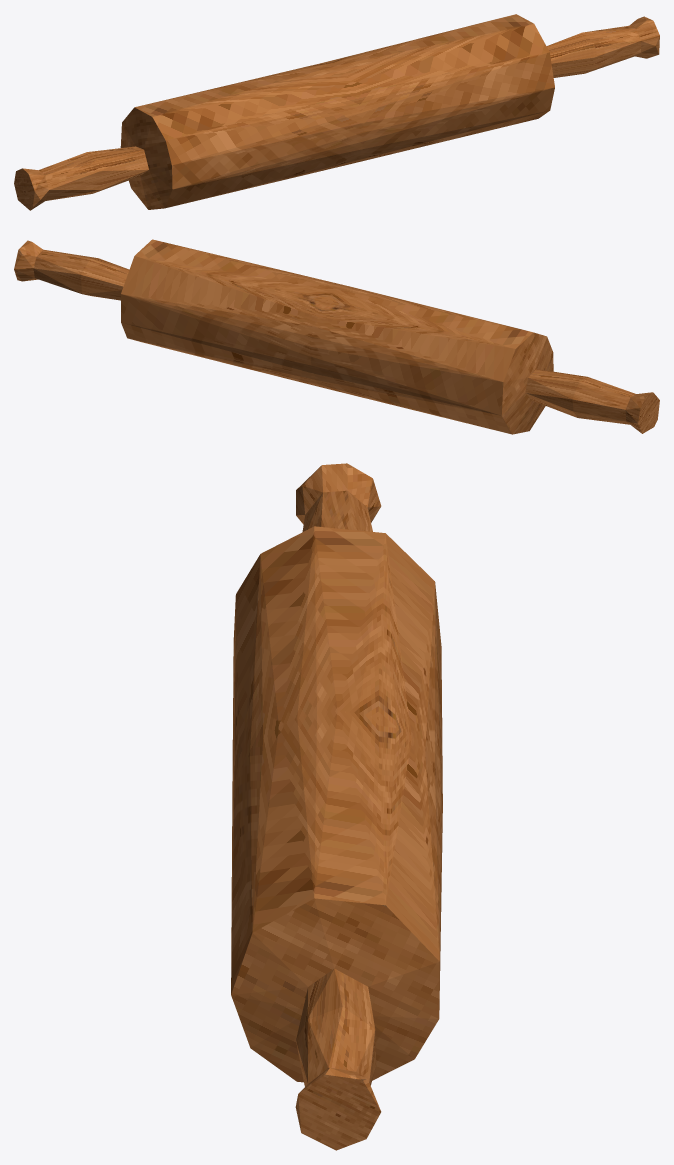
File: rolling_pin.fbx
3 renders of one model, top to bottom at view 1: azimuth 30°, elevation 25°; view 2: azimuth 150°, elevation 25°; view 3: azimuth 270°, elevation 25°, orthographic. The views are drawn at different scales.
Visible parts, largest first — view 1: Cylinder; view 2: Cylinder; view 3: Cylinder.
Part boxes in pixels (x1,y1,x2,y2): Cylinder: (14,14,659,210); Cylinder: (14,239,659,434); Cylinder: (231,463,442,1150).
Bounding box in the file's own units: 5.95 × 0.877 × 0.8732.
